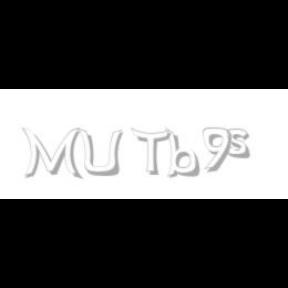9: (202, 128, 232, 172)
M: (22, 128, 80, 180)
T: (131, 128, 171, 176)
U: (78, 128, 122, 178)
b: (165, 128, 203, 178)
s: (226, 128, 254, 160)
